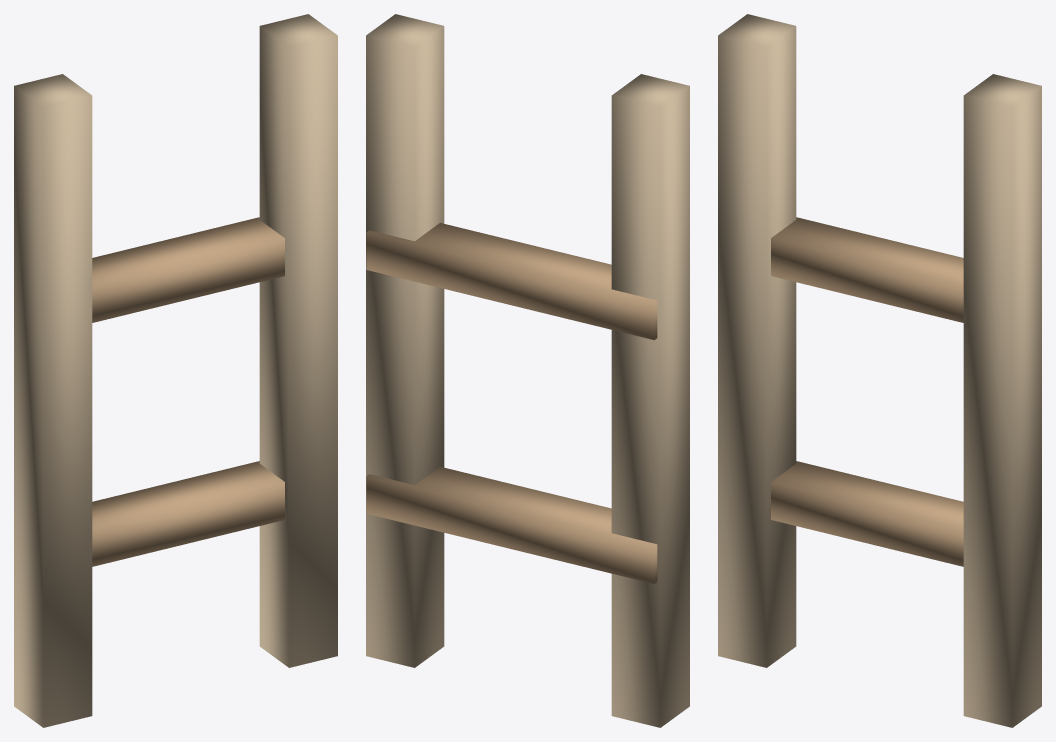
3 views of the same model, side by side, from view 1: azimuth 30°, elevation 25°; view 2: azimuth 150°, elevation 25°; view 3: azimuth 330°, elevation 25° (orthographic).
Parts seen in each view (by area): view 1: world; view 2: world; view 3: world.
Part boxes in pixels (left/top/right/bottom): world: left=14, top=14, right=337, bottom=727; world: left=366, top=14, right=689, bottom=727; world: left=718, top=14, right=1041, bottom=727.
Bounding box in the file's own units: 0.695 × 1.4 × 0.1315.
